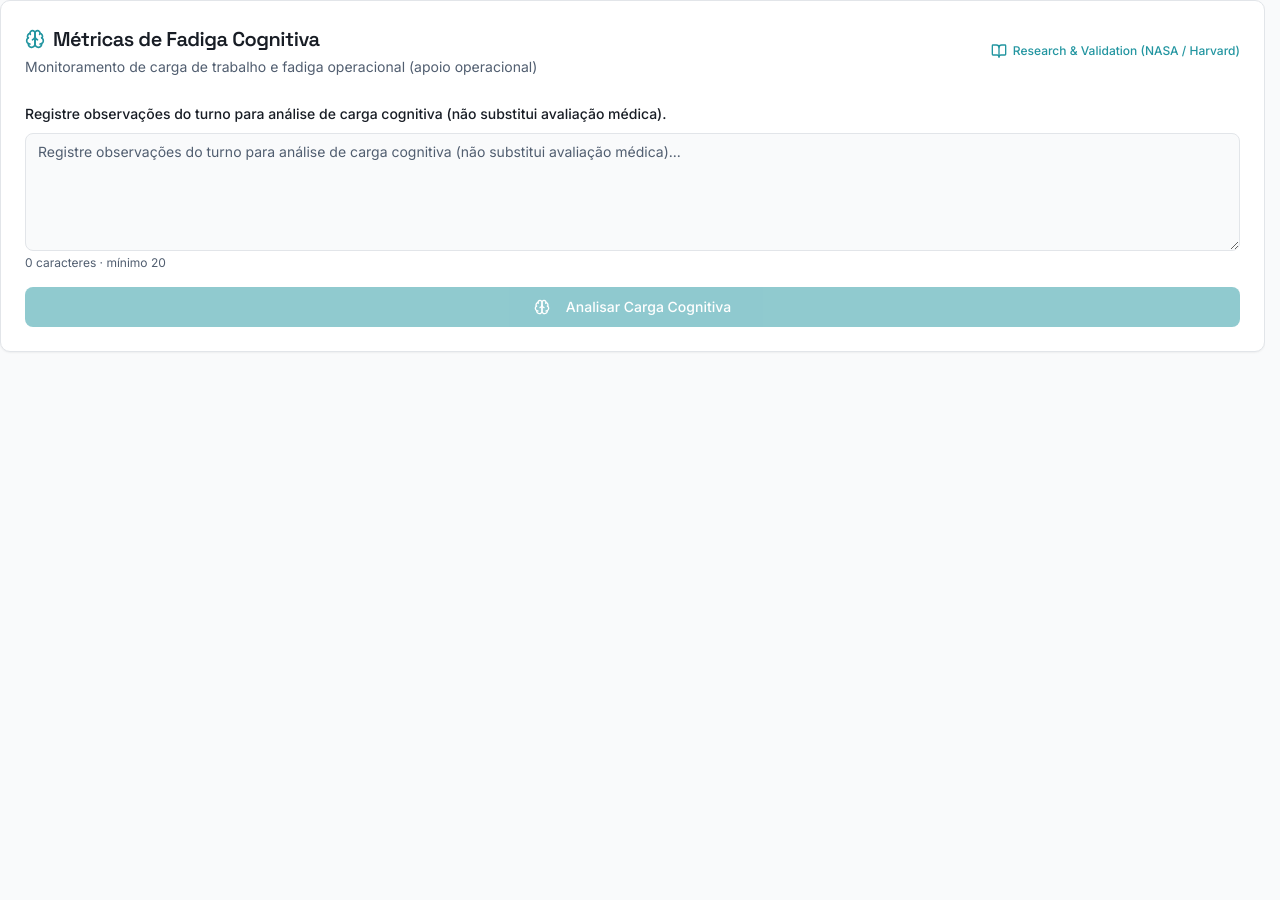
CognitiveFatigueAnalyzer Component › abre o modal do Radix Dialog ao clicar em "Research & Validation (NASA / Harvard)" exibindo as evidências e disclaimer
Step 1. Click the button "Research & Validation (NASA / Harvard)" → [1115, 51], box [991,43,1240,59]
(page scrolled)
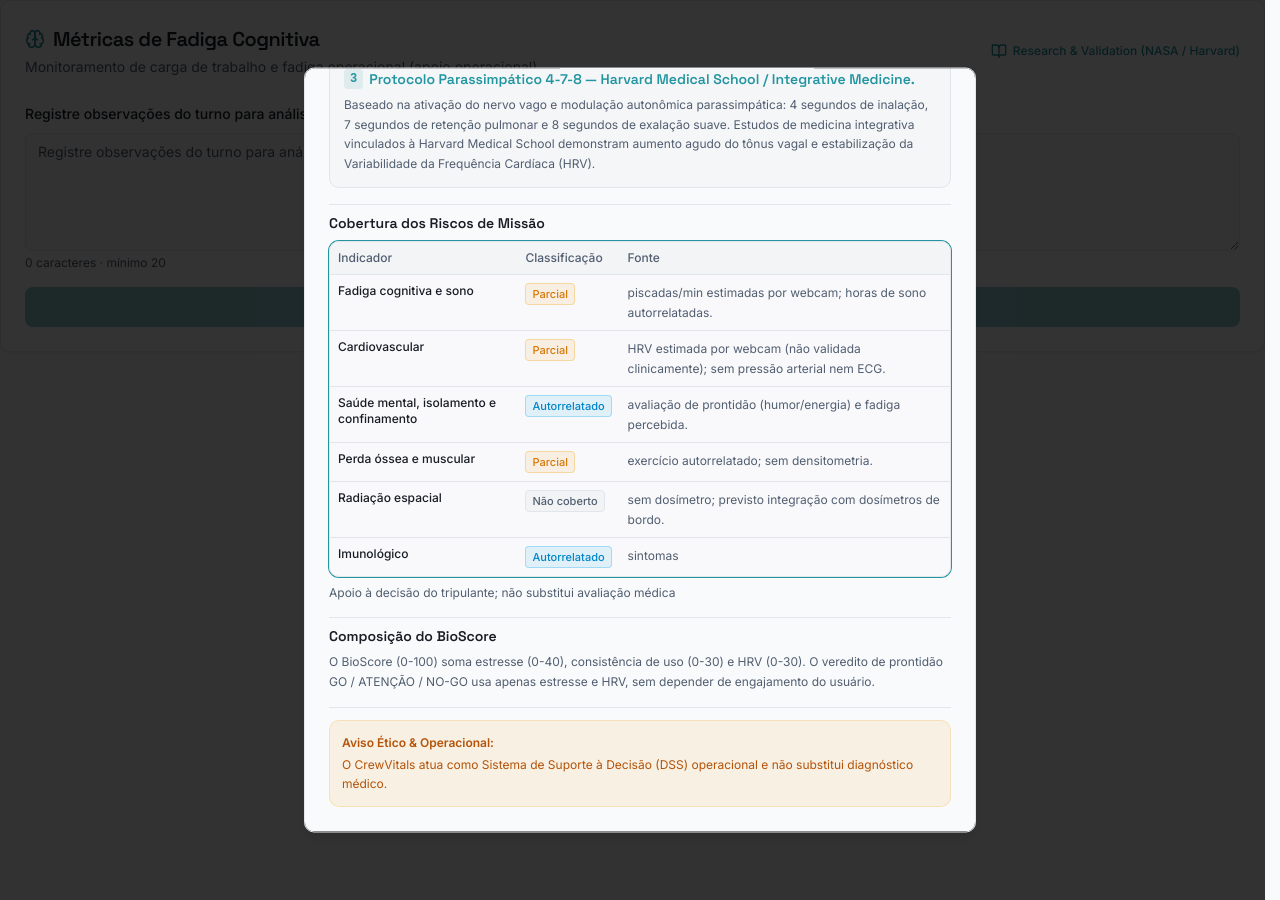
expect the heading "Protocolo Parassimpático 4-7-8 — Harvard Medical School / Integrative Medicine." is shown: met, box [369,70,915,88]
expect the text "O CrewVitals atua como Sistema de Suporte à Decisão (DSS) operacional e não substitui diagnóstico médico." is shown: met, box [342,757,913,792]
